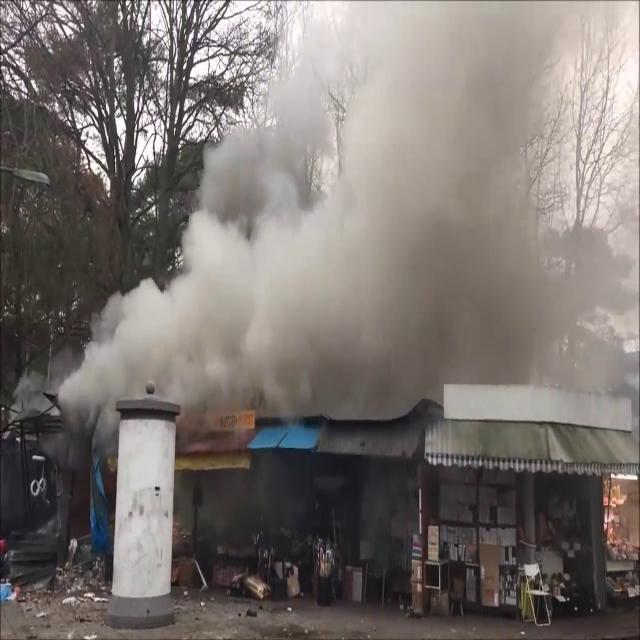Smoke: (66, 3, 618, 433)
